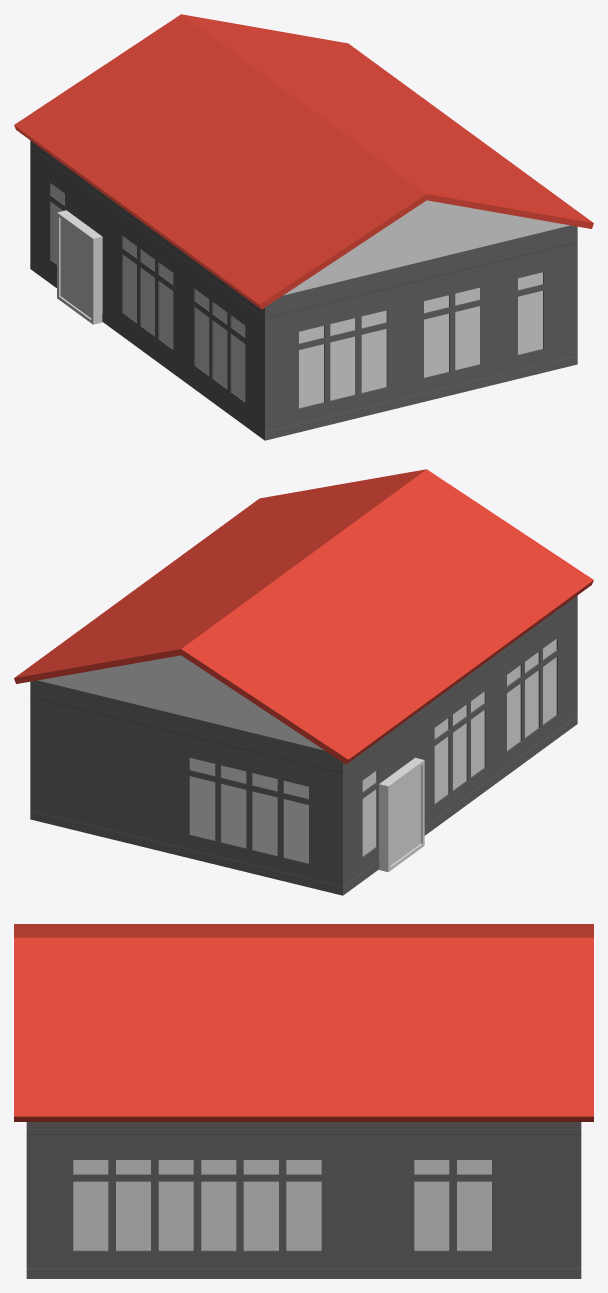
File: slopedroofbuilding.fbx
3 views of the same model, one above another, from view 1: azimuth 30°, elevation 25°; view 2: azimuth 150°, elevation 25°; view 3: azimuth 270°, elevation 25° (orthographic). The views are drawn at different scales.
Visible parts, largest first — view 1: Cube; view 2: Cube; view 3: Cube.
Part boxes in pixels (left/top/right/bottom): Cube: left=14, top=14, right=593, bottom=440; Cube: left=14, top=469, right=593, bottom=895; Cube: left=14, top=924, right=593, bottom=1278.
Size of the model in its own units: 1069 by 652 by 1360.
